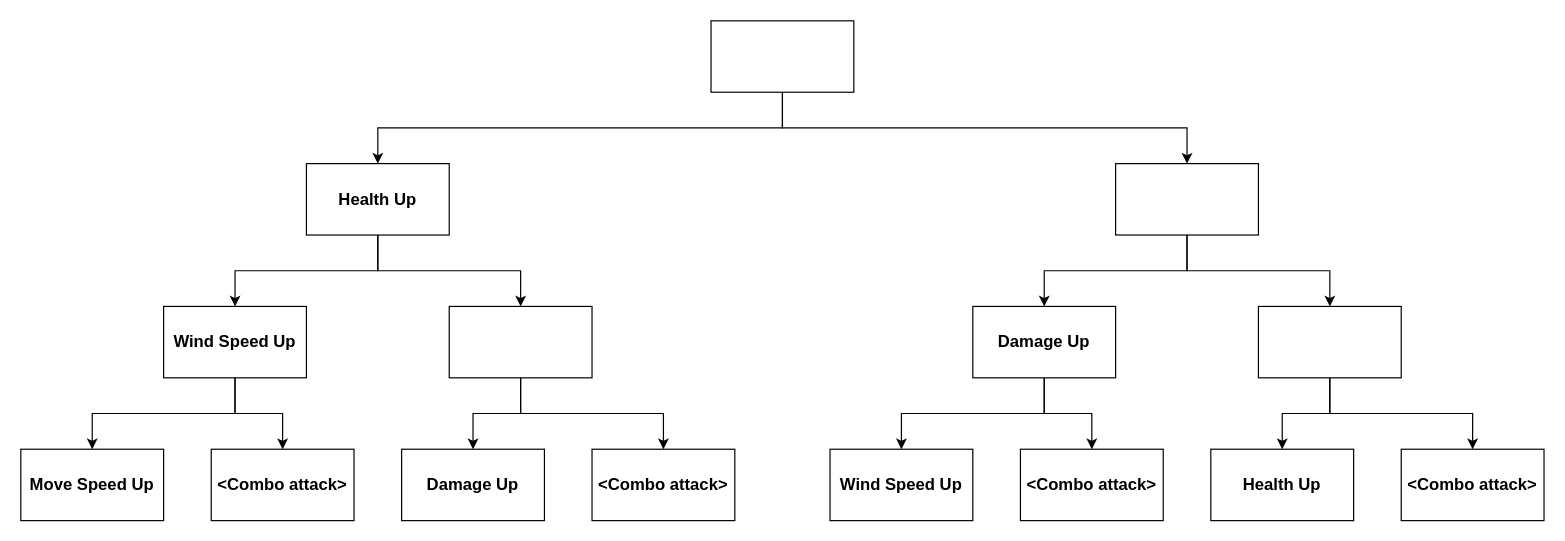
This 1565x541 diagram has some shape labels left out. Here are the shapes that lost their labels. From the top down, the centre of each, then its label:
pixel 782 56: Double Yo-Yo
pixel 1186 198: Aerial Attacks
pixel 520 341: Bind
pixel 1329 341: Launch
